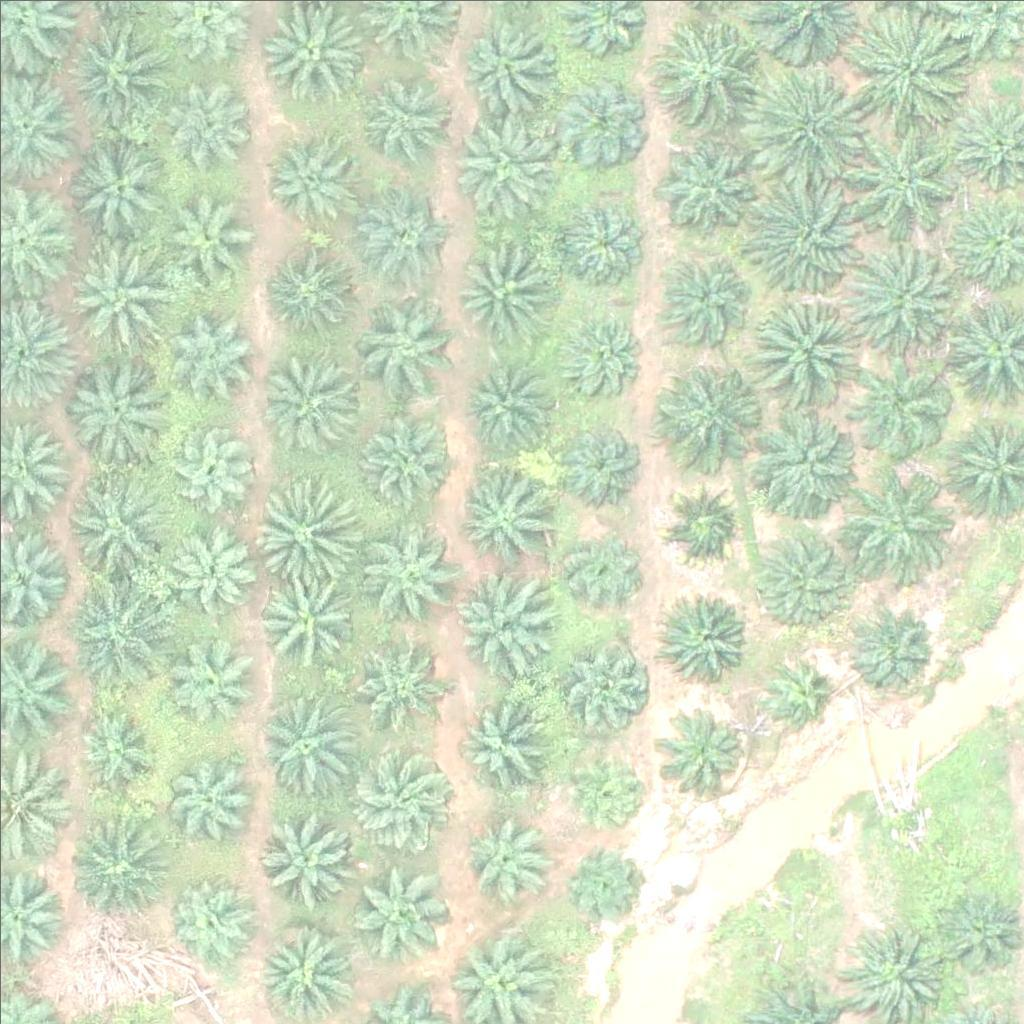Kelapa_Sawit: (58, 231, 171, 344), (60, 473, 173, 586), (59, 573, 172, 686), (746, 69, 859, 182), (746, 180, 859, 293), (747, 298, 860, 411), (746, 413, 859, 526), (849, 238, 962, 351), (847, 9, 960, 122), (61, 16, 173, 130), (250, 473, 362, 587), (446, 107, 558, 221), (651, 354, 763, 467), (649, 4, 761, 117), (843, 124, 955, 237), (74, 137, 174, 238), (63, 354, 163, 455), (264, 129, 364, 230), (251, 562, 351, 663), (359, 514, 459, 615), (357, 404, 457, 505), (352, 60, 452, 161), (452, 468, 552, 569), (552, 68, 652, 169), (660, 128, 760, 229), (858, 468, 958, 569), (852, 356, 952, 457), (351, 748, 451, 849), (459, 807, 559, 908), (263, 352, 363, 452), (354, 295, 454, 395), (354, 171, 454, 271), (453, 688, 553, 788), (450, 572, 550, 672), (449, 235, 549, 335), (456, 14, 556, 114), (551, 190, 651, 290), (751, 534, 851, 634), (69, 811, 169, 911), (255, 922, 355, 1022), (255, 809, 355, 909), (256, 694, 356, 794), (347, 864, 447, 964), (172, 631, 260, 719), (168, 519, 256, 607), (163, 193, 251, 281), (158, 73, 246, 161), (270, 248, 358, 336), (349, 630, 437, 718), (462, 364, 550, 452), (561, 743, 649, 831), (557, 525, 645, 613), (556, 413, 644, 501), (556, 308, 644, 396), (848, 605, 936, 693), (72, 710, 160, 798), (167, 422, 254, 510), (166, 303, 253, 391), (560, 642, 647, 730), (658, 701, 745, 789), (662, 596, 749, 684), (662, 478, 749, 566), (665, 257, 752, 345), (166, 756, 253, 844), (169, 879, 256, 967), (560, 842, 647, 930), (936, 889, 1023, 977), (758, 651, 833, 727)
